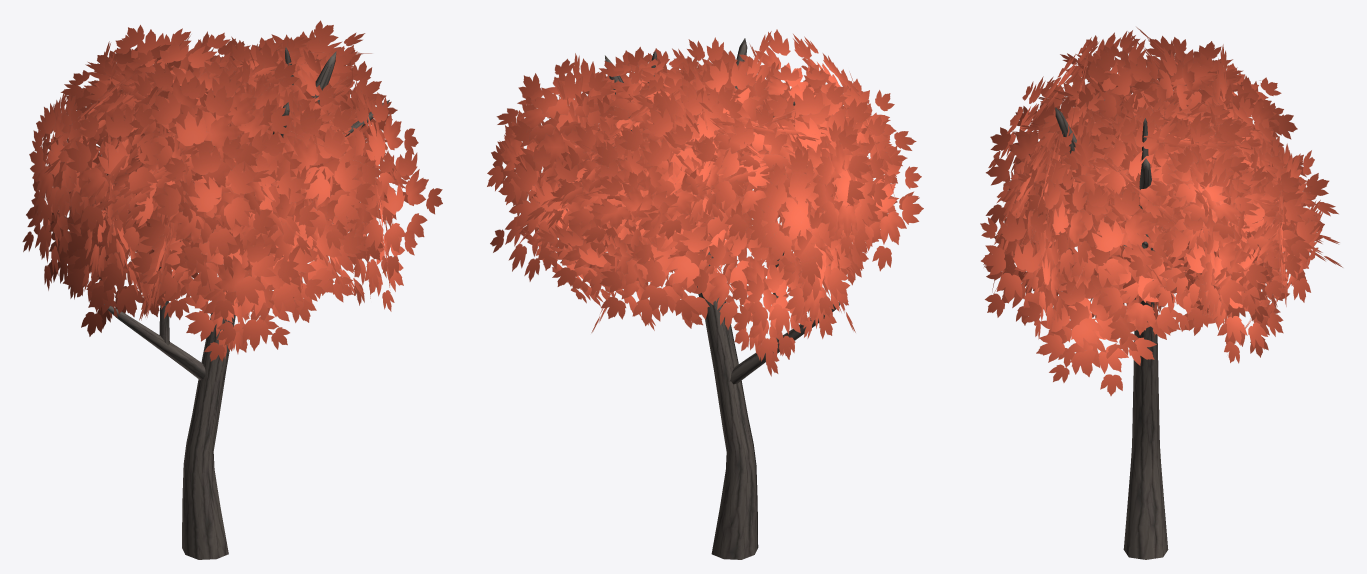
Rendered from MapleTree_4.gltf.
3 renders of one model, left to right at view 1: azimuth 30°, elevation 25°; view 2: azimuth 150°, elevation 25°; view 3: azimuth 270°, elevation 25°, orthographic. The views are drawn at different scales.
Visible parts, largest first — view 1: MapleTree_4; view 2: MapleTree_4; view 3: MapleTree_4.
Part boxes in pixels (<box>): MapleTree_4: <box>22,20,442,559</box>; MapleTree_4: <box>487,29,923,559</box>; MapleTree_4: <box>980,27,1342,559</box>.
Size of the model in its own units: 2.77 by 3.59 by 2.43.
2 materials, 2 textured.
